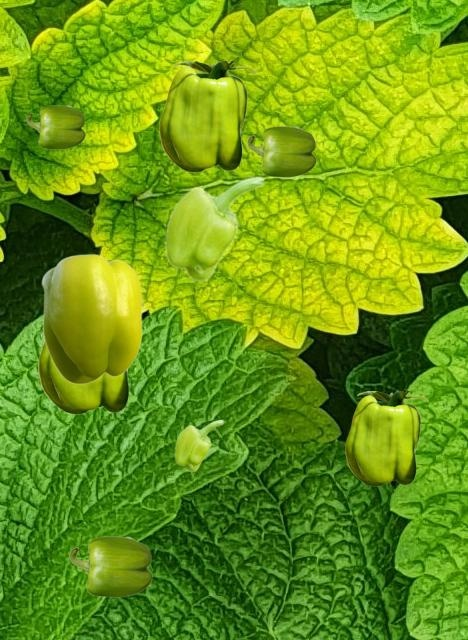bell_pepper: (41, 253, 141, 383), (38, 301, 143, 413), (164, 175, 264, 281), (159, 61, 255, 171), (345, 391, 427, 485), (69, 536, 151, 596), (247, 126, 315, 176), (174, 419, 223, 471), (26, 105, 84, 148)
